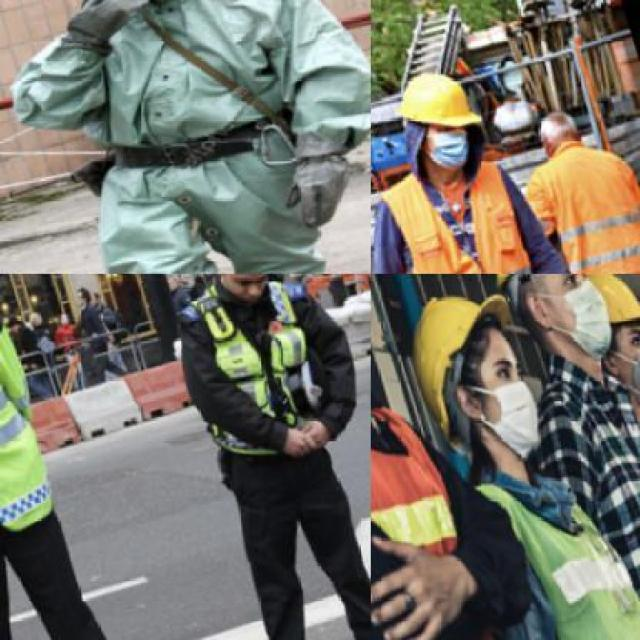hat: (380, 274, 523, 389), (389, 65, 485, 146)
